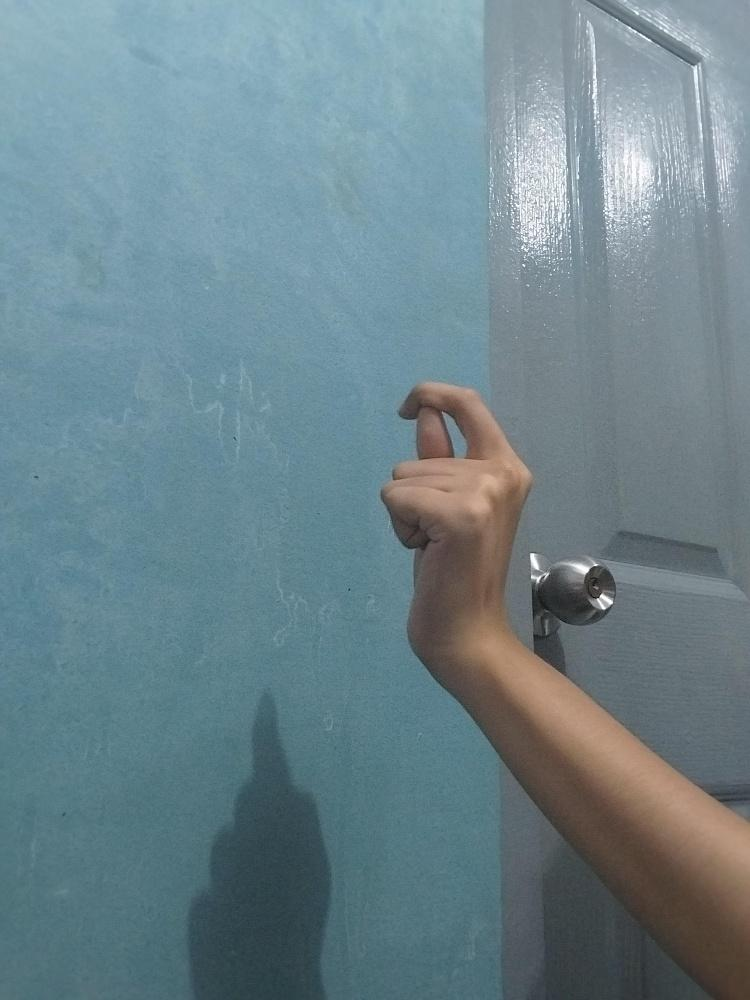t: (382, 380, 532, 657)
